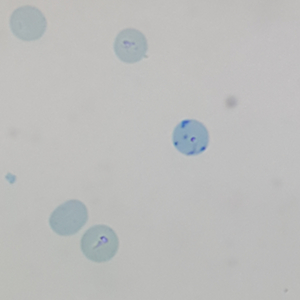aggregate reticulocyte: (171, 118, 211, 157)
erythrocyte: (79, 223, 121, 264), (48, 198, 90, 238), (8, 4, 49, 43), (112, 27, 151, 65)
